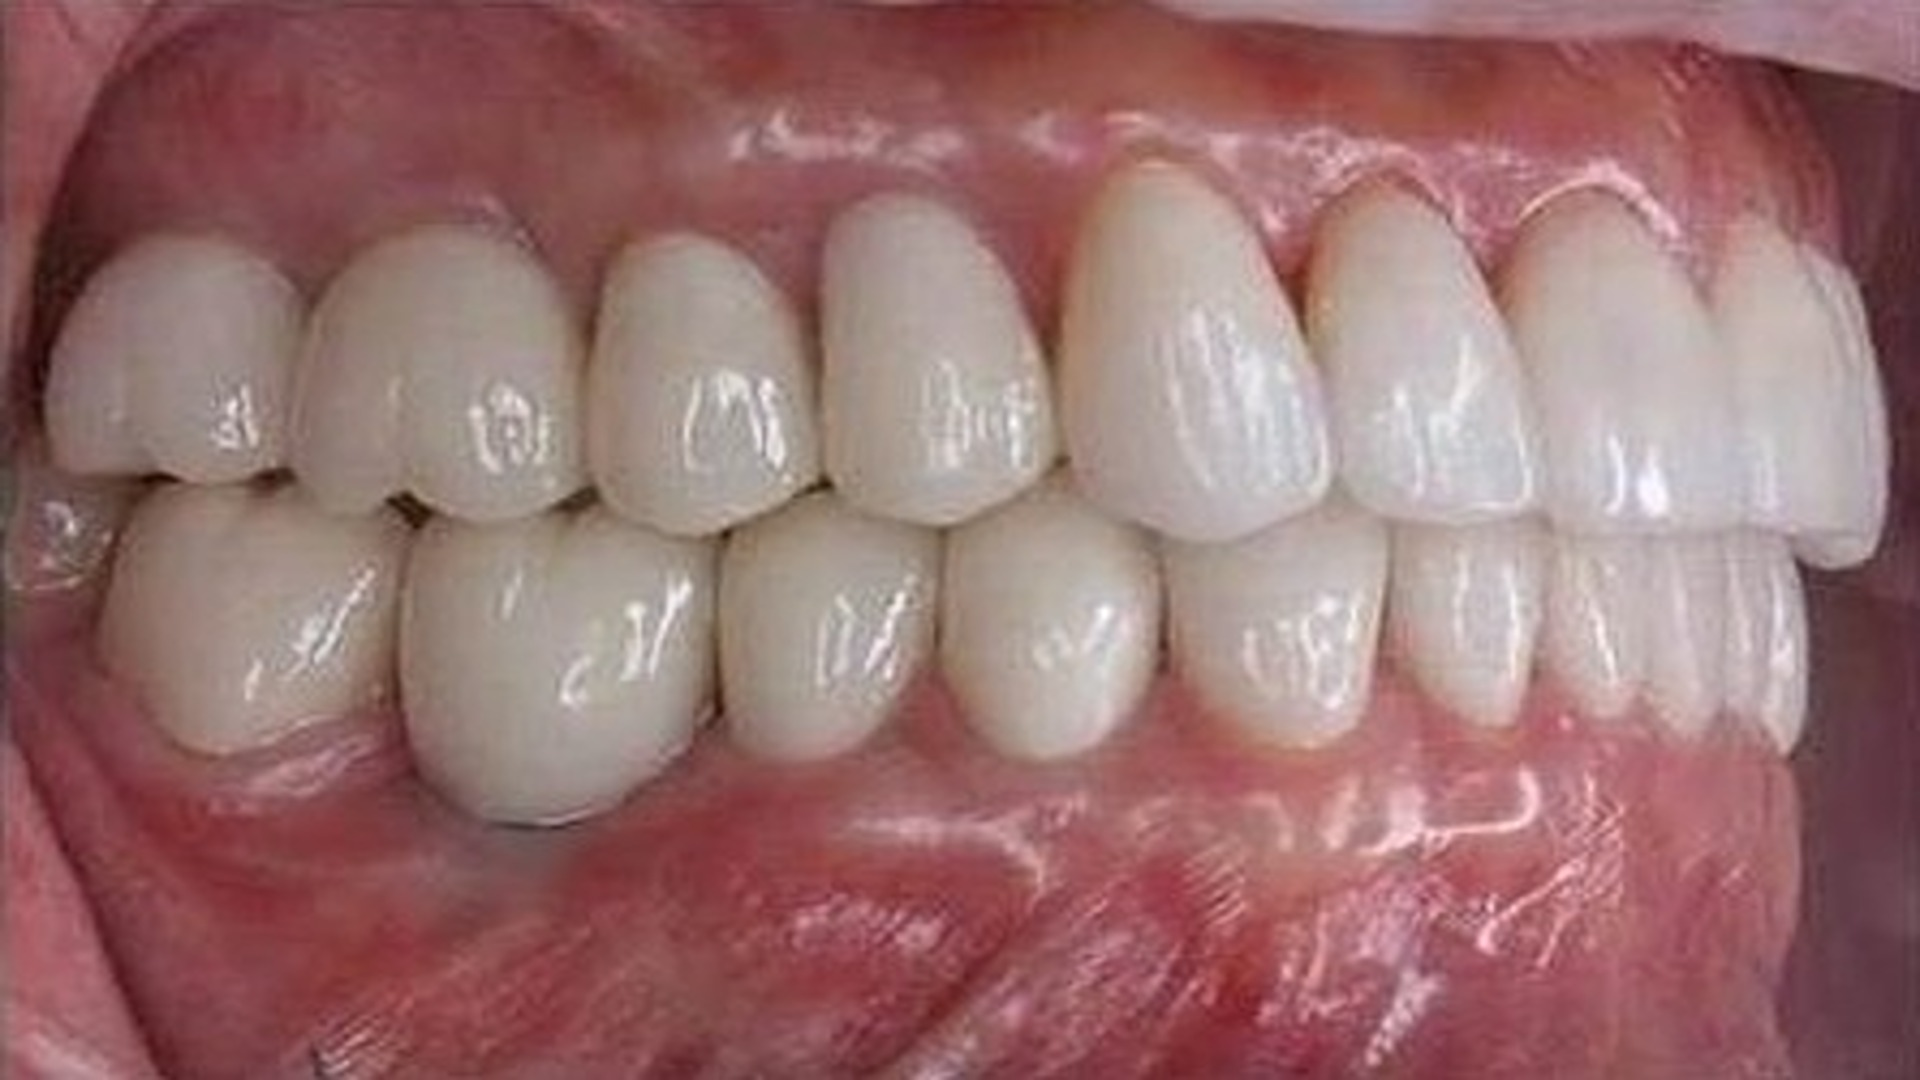tooth: (1056, 160, 1335, 542), (398, 495, 717, 827), (1490, 177, 1754, 534), (289, 225, 589, 522), (96, 480, 404, 756), (1304, 178, 1538, 526), (818, 193, 1052, 526), (585, 233, 823, 538), (935, 469, 1164, 764), (44, 233, 309, 487), (1712, 214, 1894, 570), (1159, 481, 1389, 750), (717, 491, 940, 764), (1381, 509, 1557, 728)
